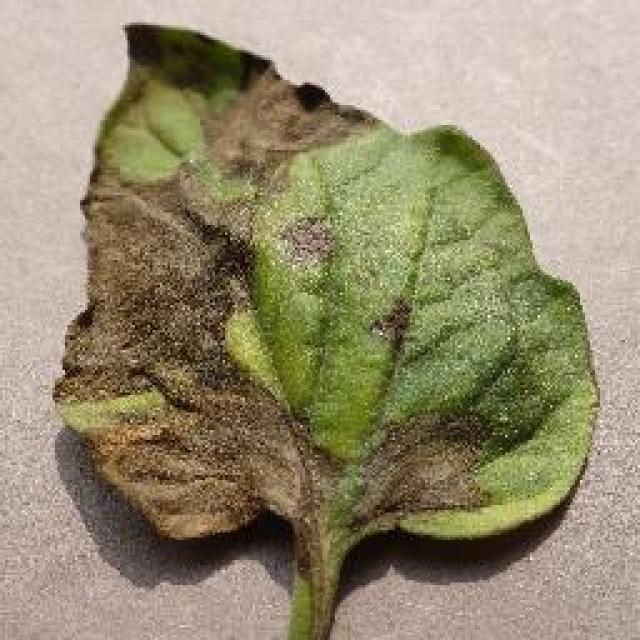Tomato late blight leaf: (54, 21, 596, 584)
